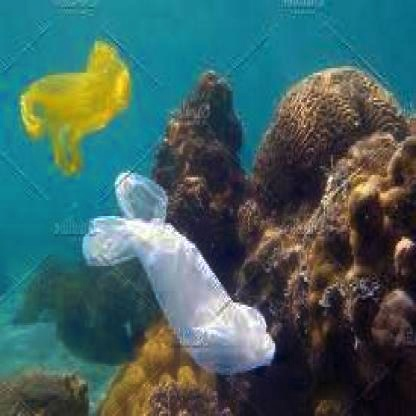pbag: (82, 168, 277, 378), (18, 37, 132, 180)
